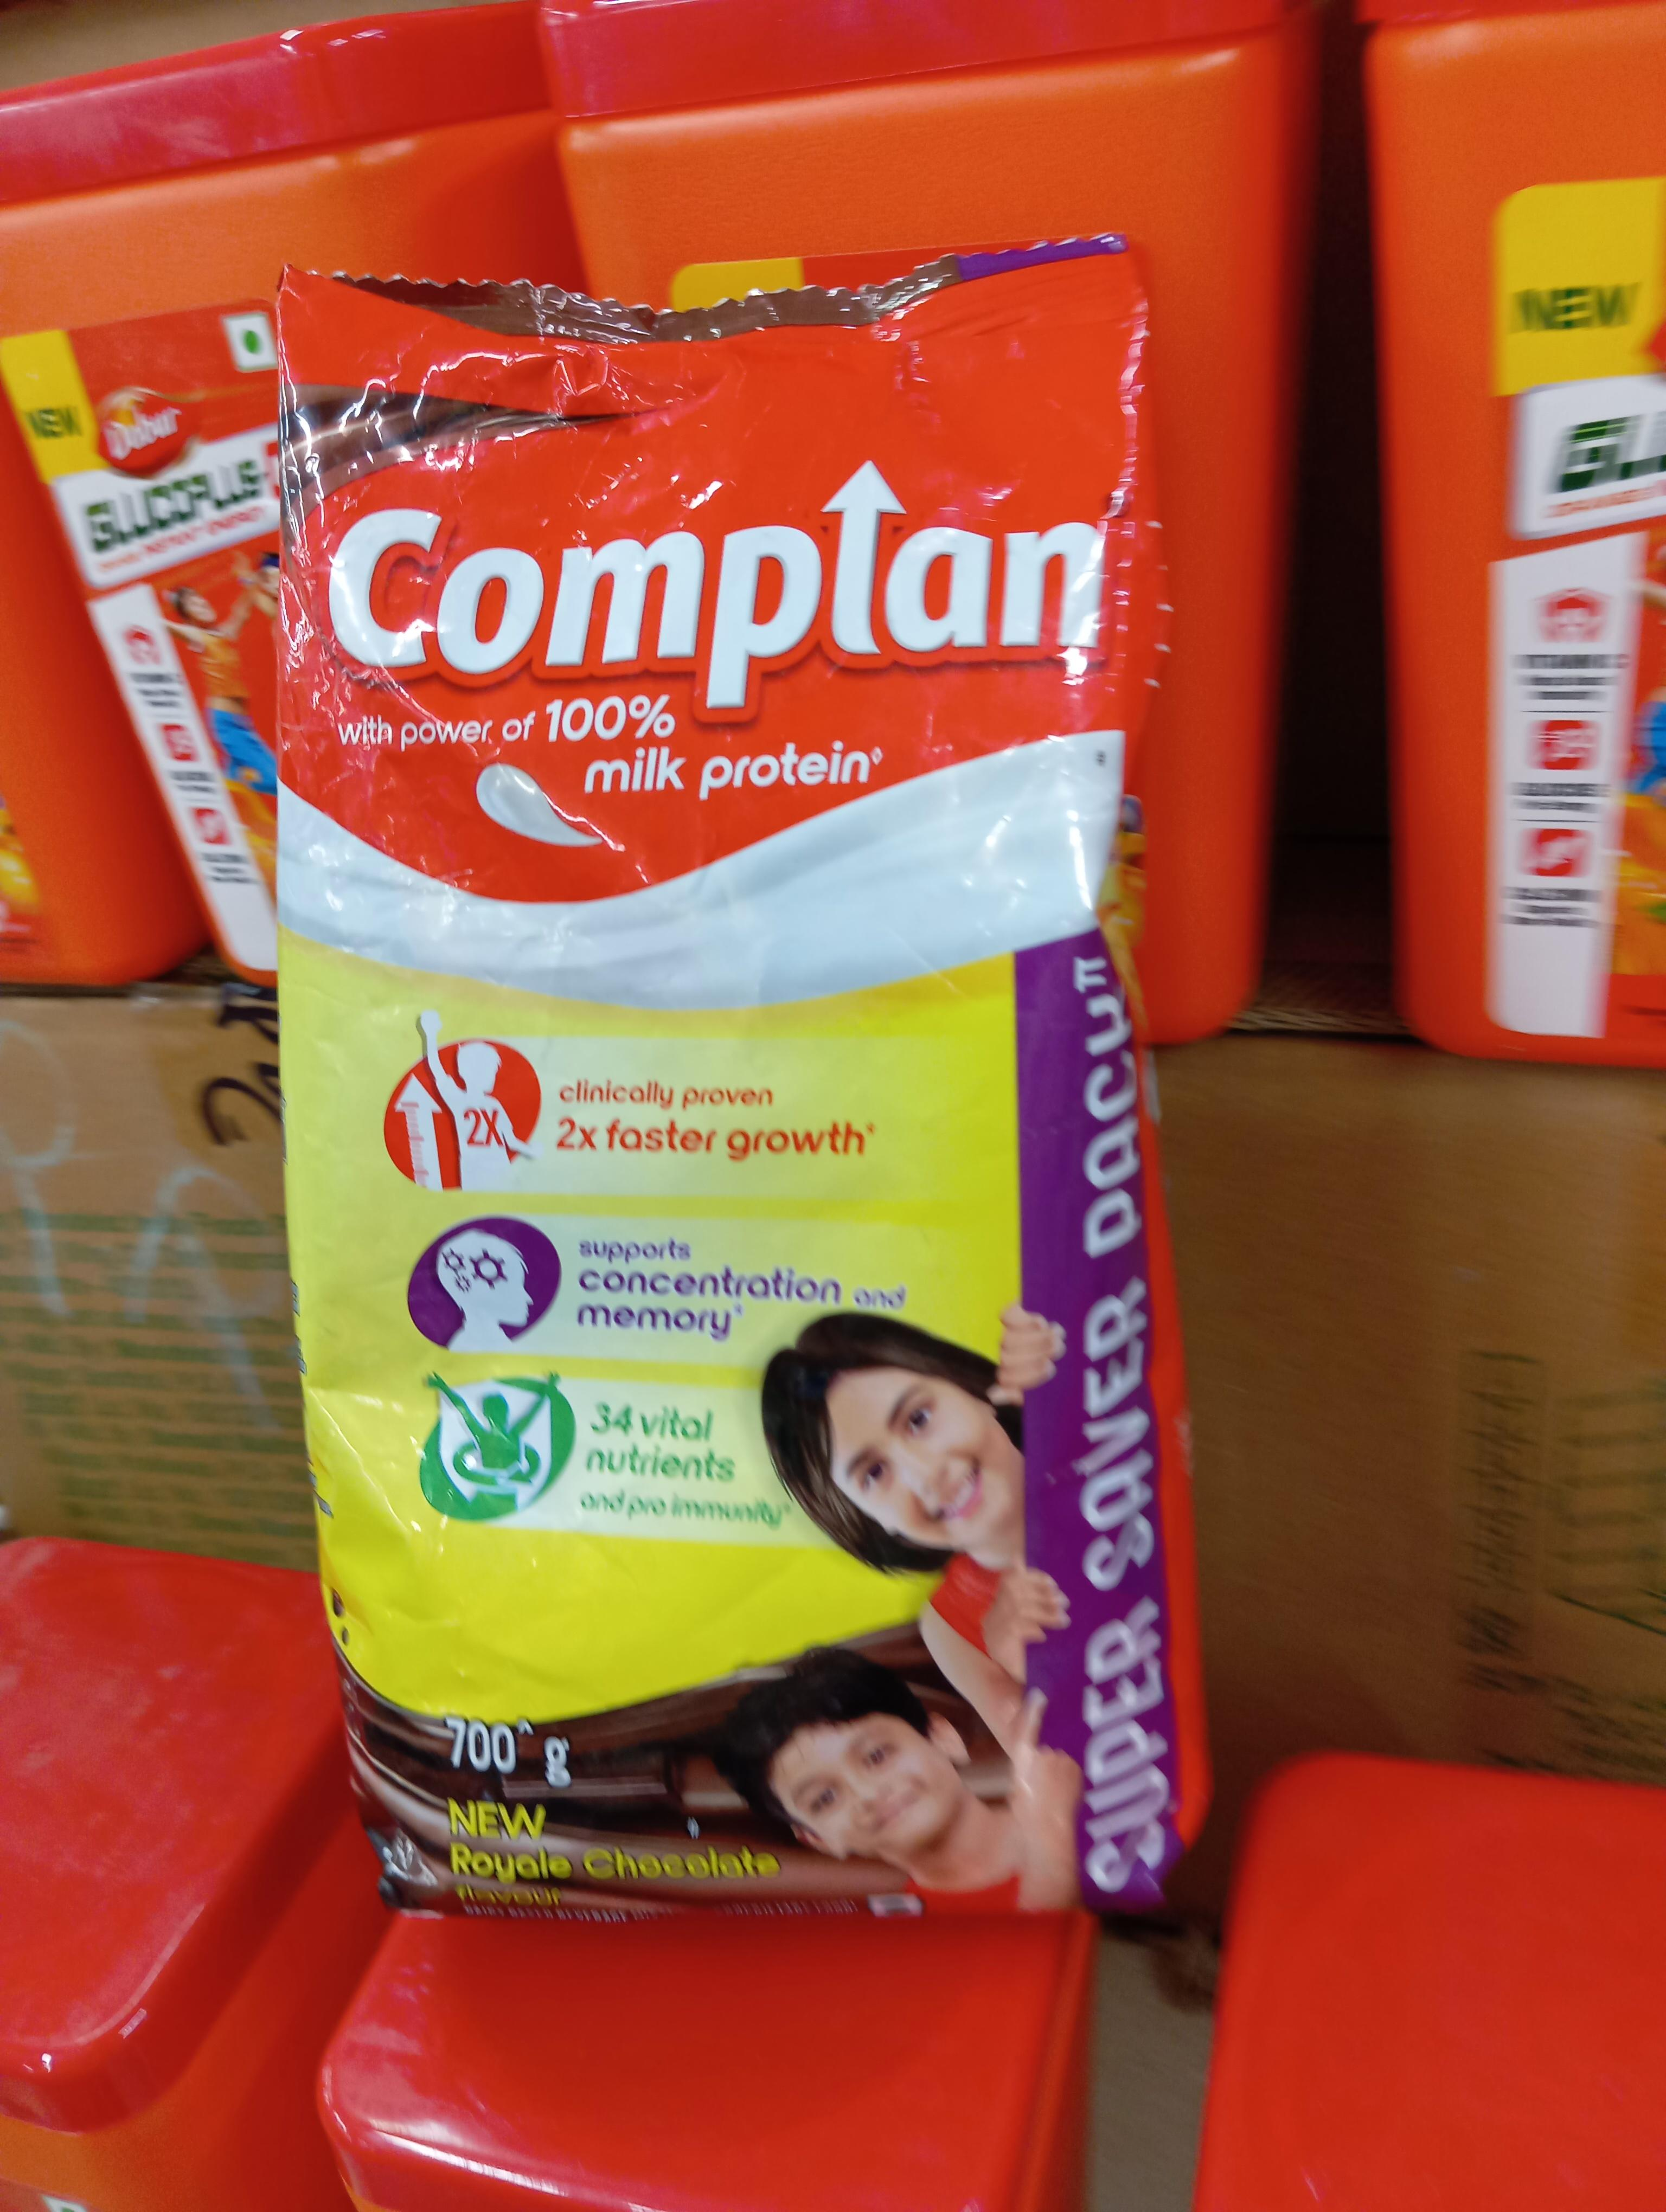COMPLAN_RC_POUCH_700_GMS_12: (287, 287, 1134, 1946)
